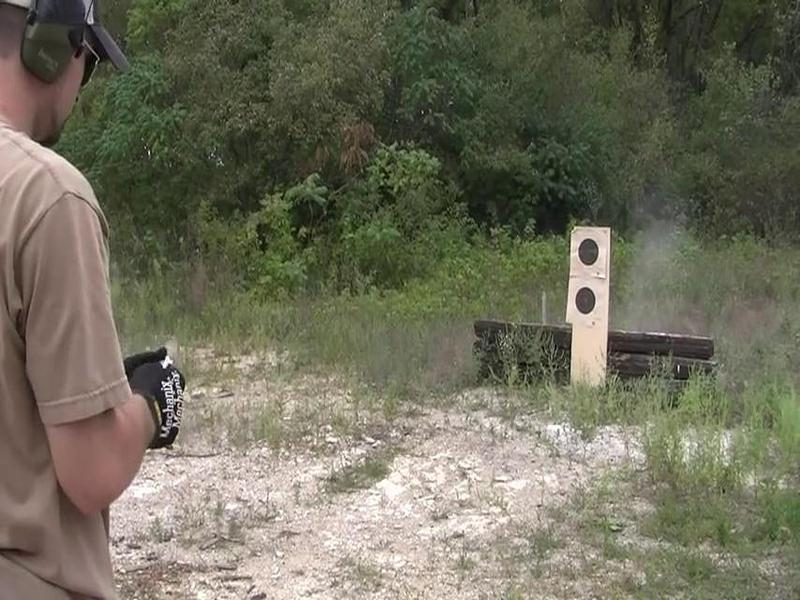Revolver: (136, 340, 187, 380)
